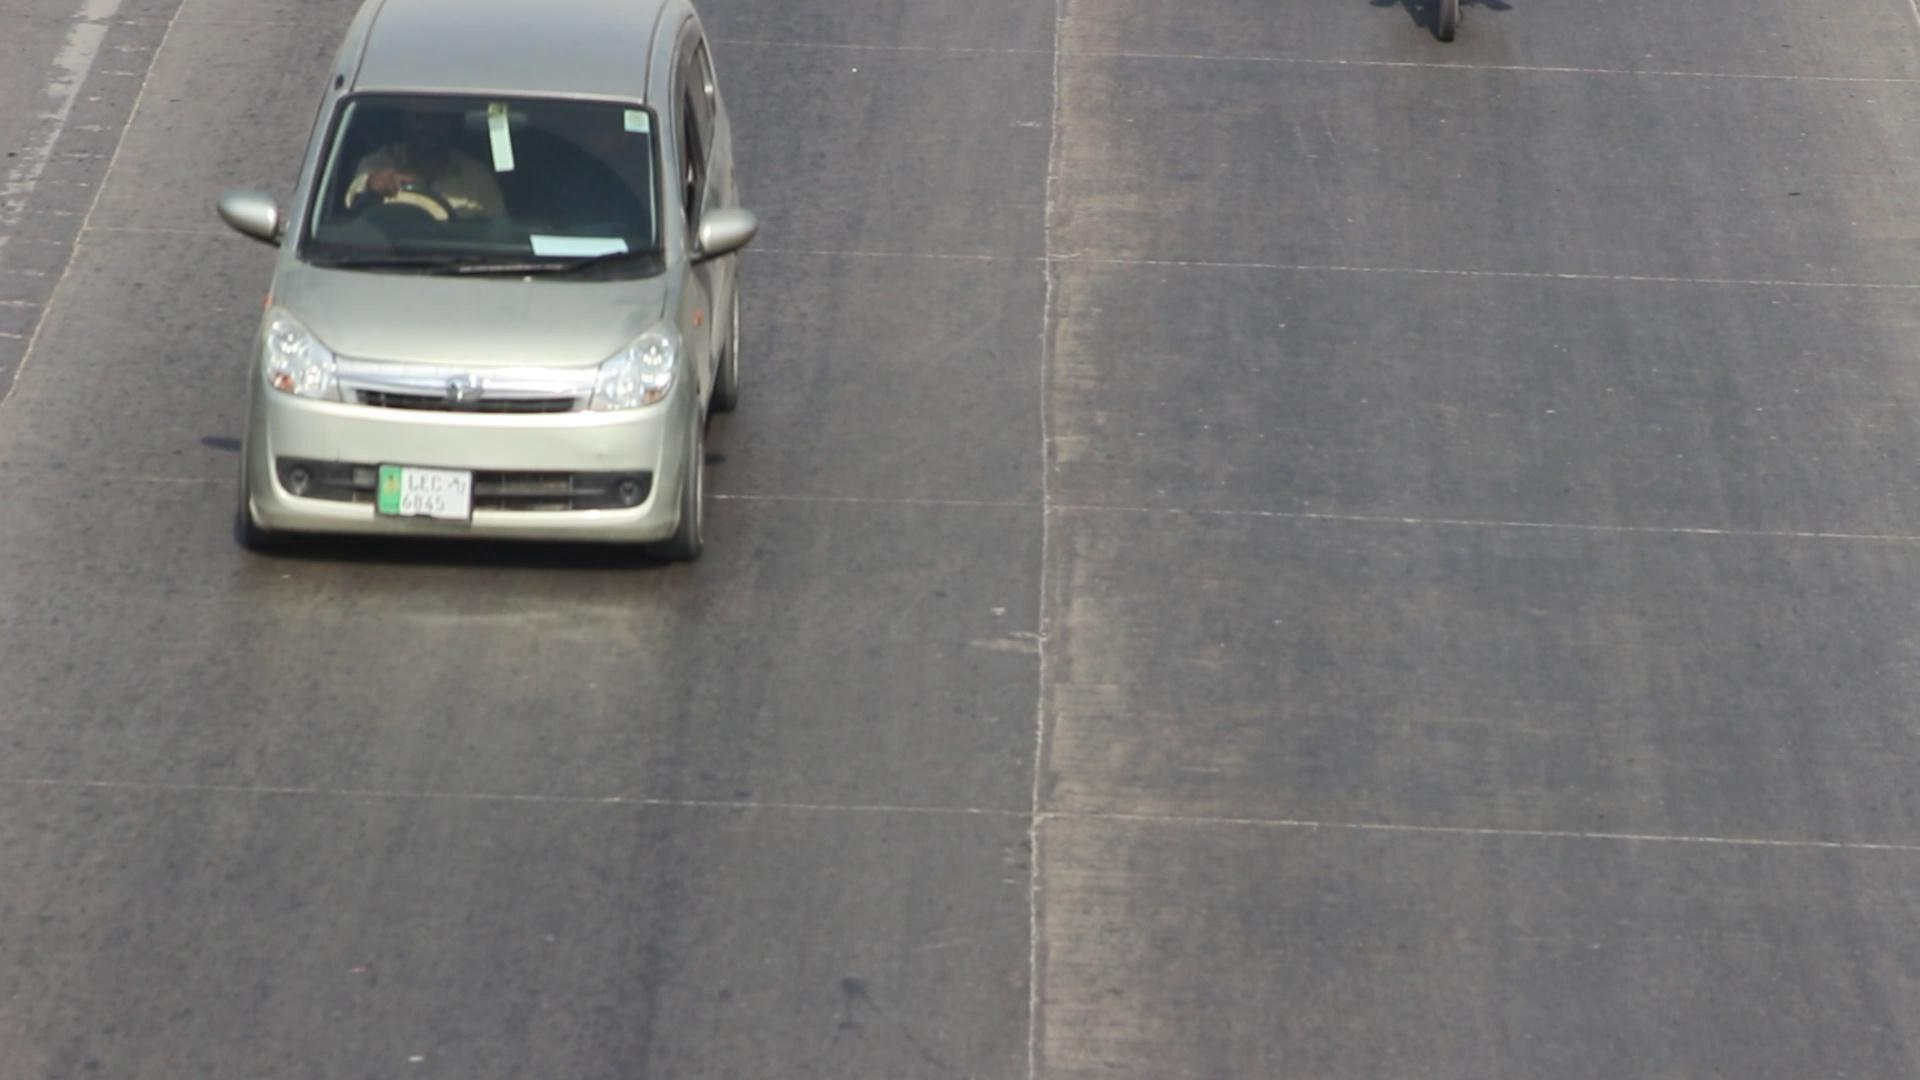windshield: (281, 83, 665, 280)
